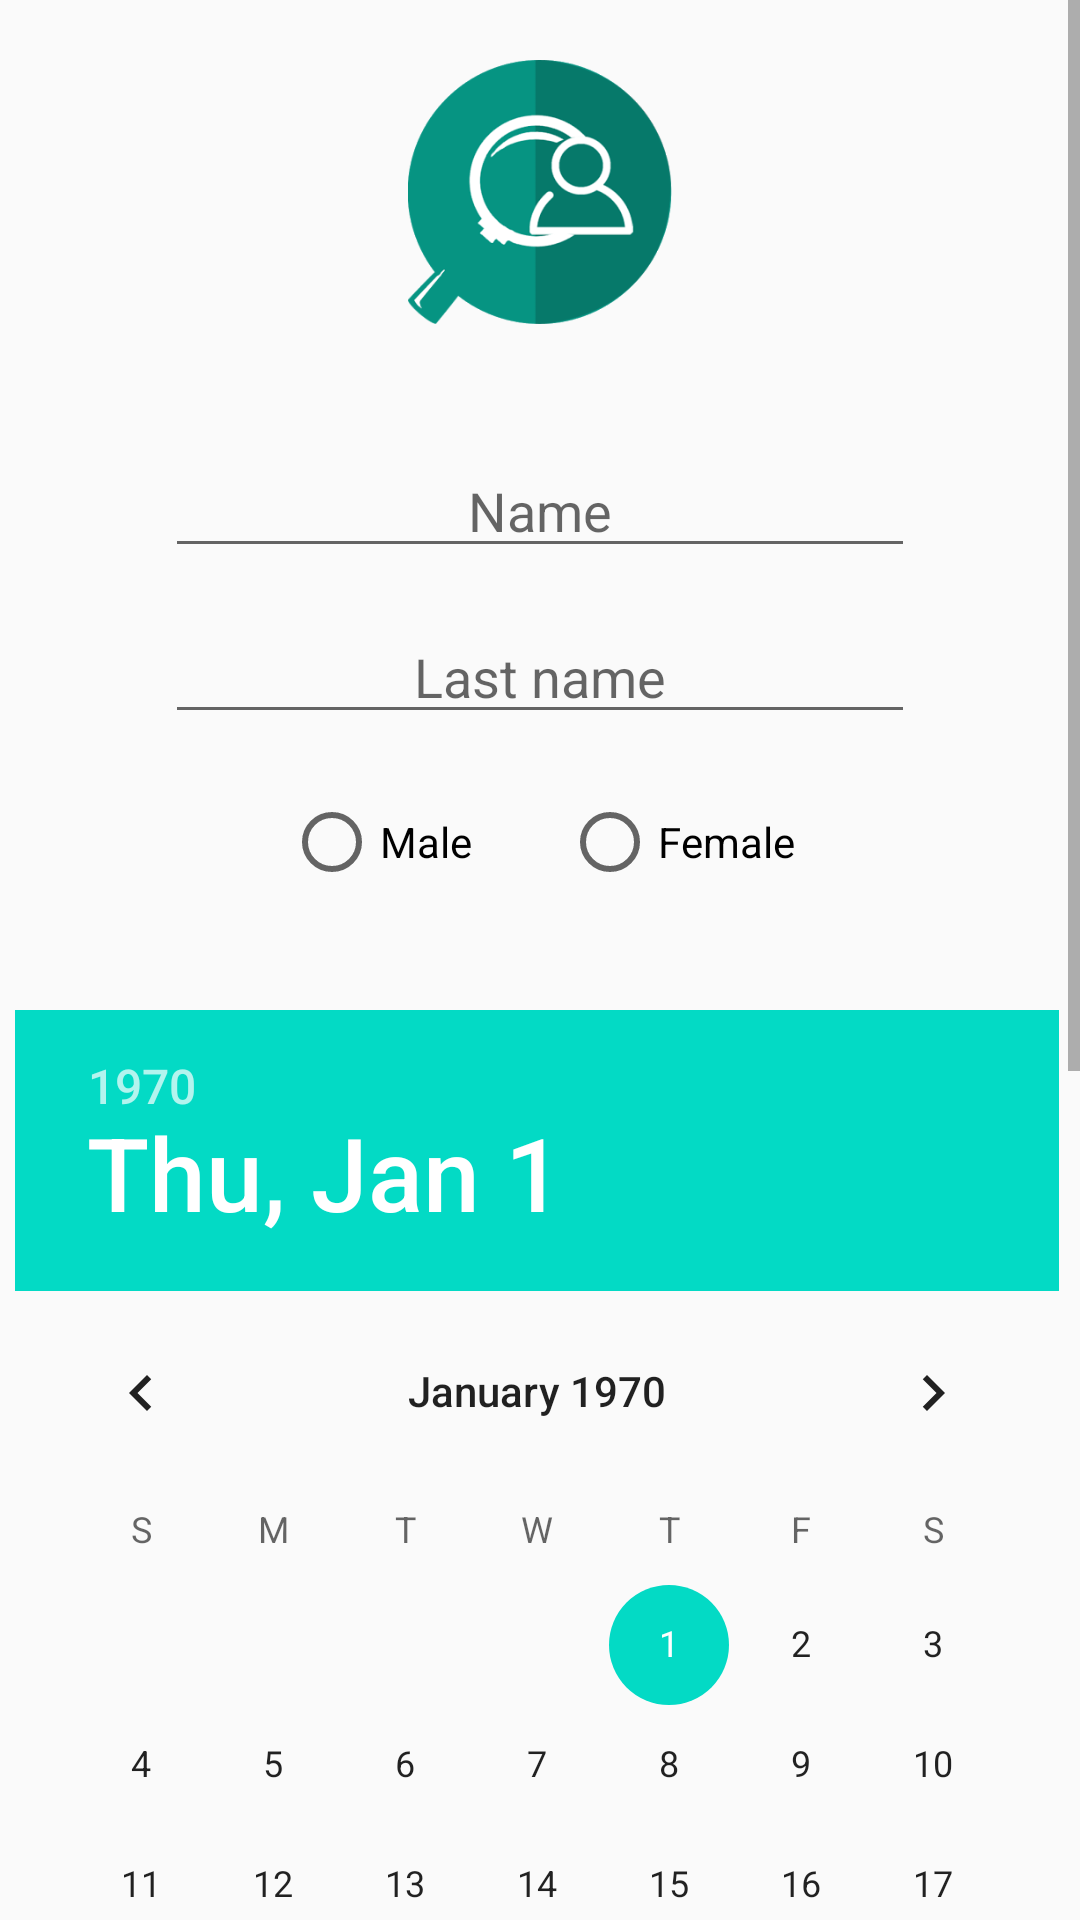

Where icons sit on this 1080px x 1920px app screen, as (x1, y1, x2, y2):
profile: (408, 60, 672, 324)
